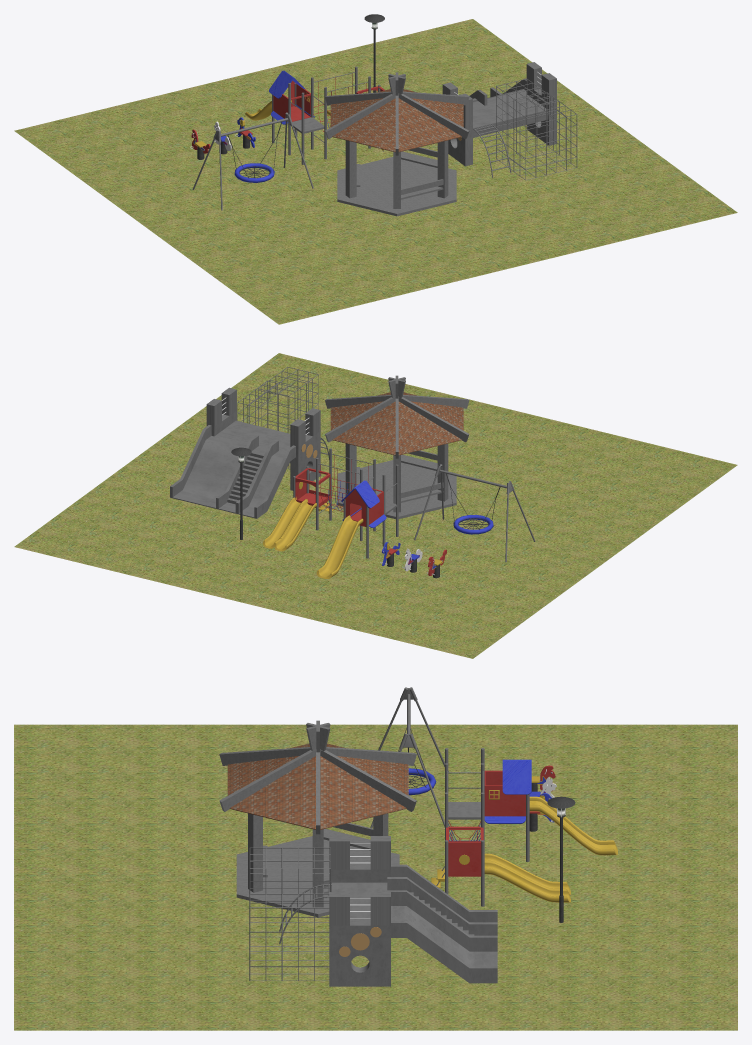
Rendered from park_facility_asset.glb.
3 views of the same model, one above another, from view 1: azimuth 30°, elevation 25°; view 2: azimuth 150°, elevation 25°; view 3: azimuth 270°, elevation 25° (orthographic). The views are drawn at different scales.
Visible parts, largest first — view 1: Plane, rest_2, slider_2, Slider02, Dount; view 2: Plane, slider_2, rest_2, Slider02, Dount; view 3: Plane, rest_2, slider_2, Slider02, Dount, Lamp.
Boxes of the visible parts, x1,y1,x2,y2 form: Plane: [14, 19, 737, 324]; rest_2: [325, 72, 469, 216]; slider_2: [442, 62, 577, 180]; Slider02: [245, 66, 384, 164]; Dount: [192, 112, 313, 210]; Plane: [14, 353, 737, 658]; slider_2: [170, 367, 329, 518]; rest_2: [325, 375, 469, 519]; Slider02: [263, 448, 398, 578]; Dount: [414, 464, 535, 562]; Plane: [14, 724, 737, 1030]; rest_2: [219, 720, 416, 917]; slider_2: [249, 836, 497, 986]; Slider02: [431, 748, 617, 906]; Dount: [370, 687, 448, 828]; Lamp: [547, 796, 575, 922].
Size of the model in its own units: 2000 by 465 by 2000.
13 materials, 10 textured.
